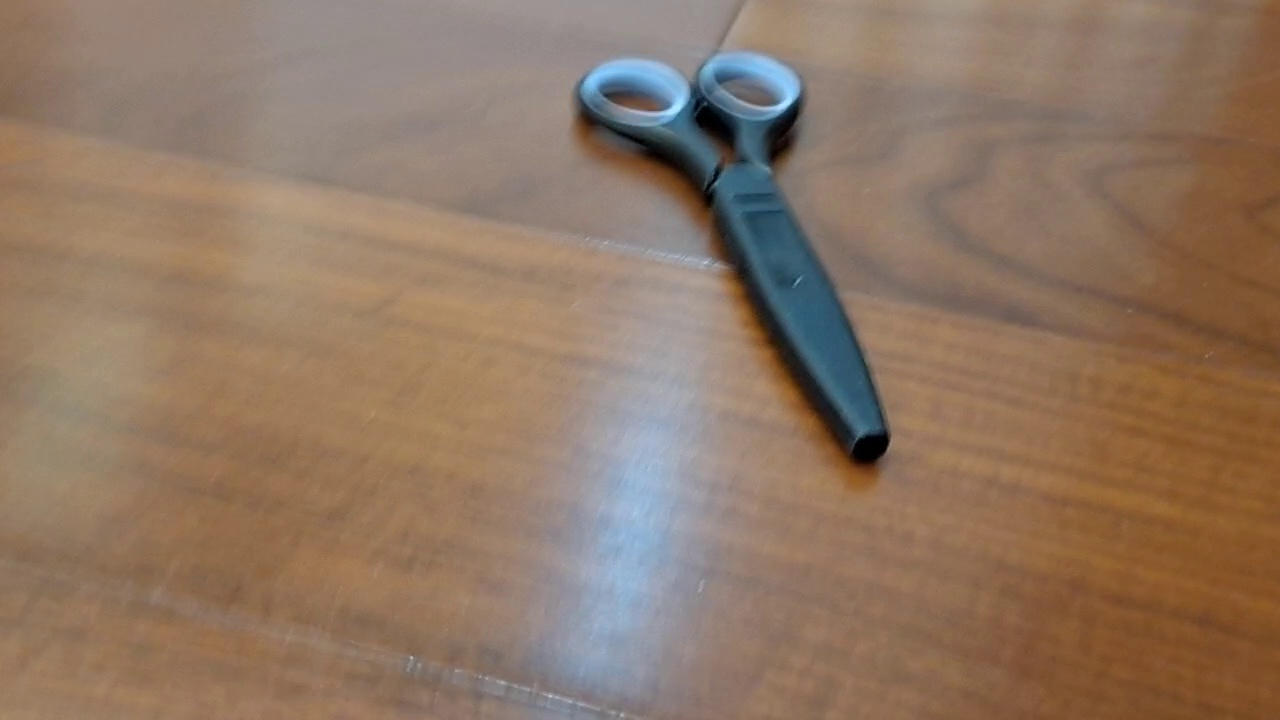scissors: (570, 47, 891, 466)
